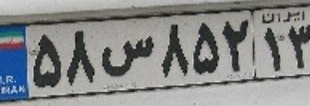character: (99, 32, 155, 80), (63, 27, 100, 90), (30, 31, 66, 90), (159, 18, 190, 79), (221, 16, 251, 75), (191, 18, 220, 79), (286, 22, 310, 73), (262, 27, 284, 75)
